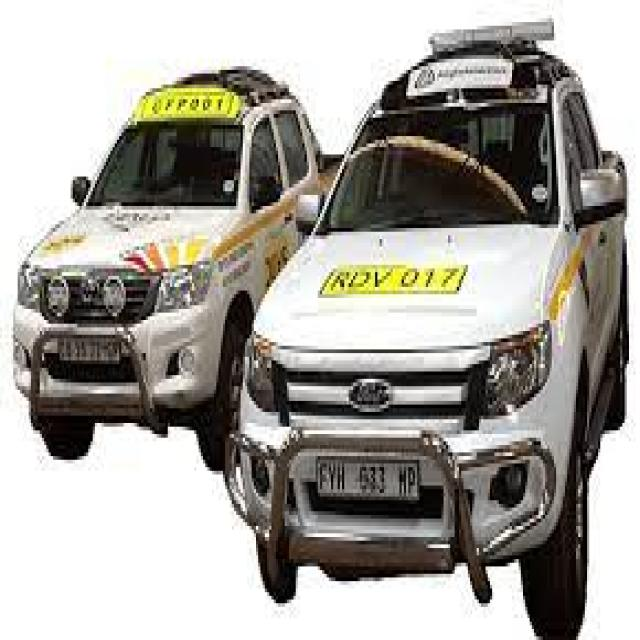light_vehicle: (225, 11, 616, 636)
